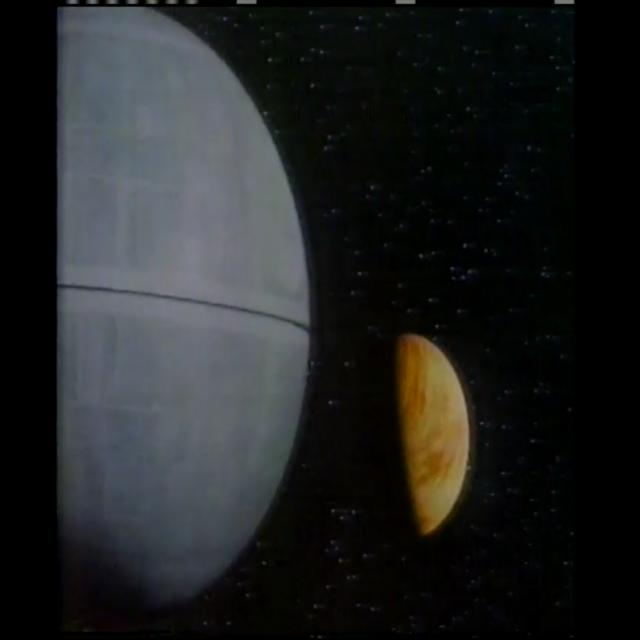deathStar: (56, 2, 311, 632)
